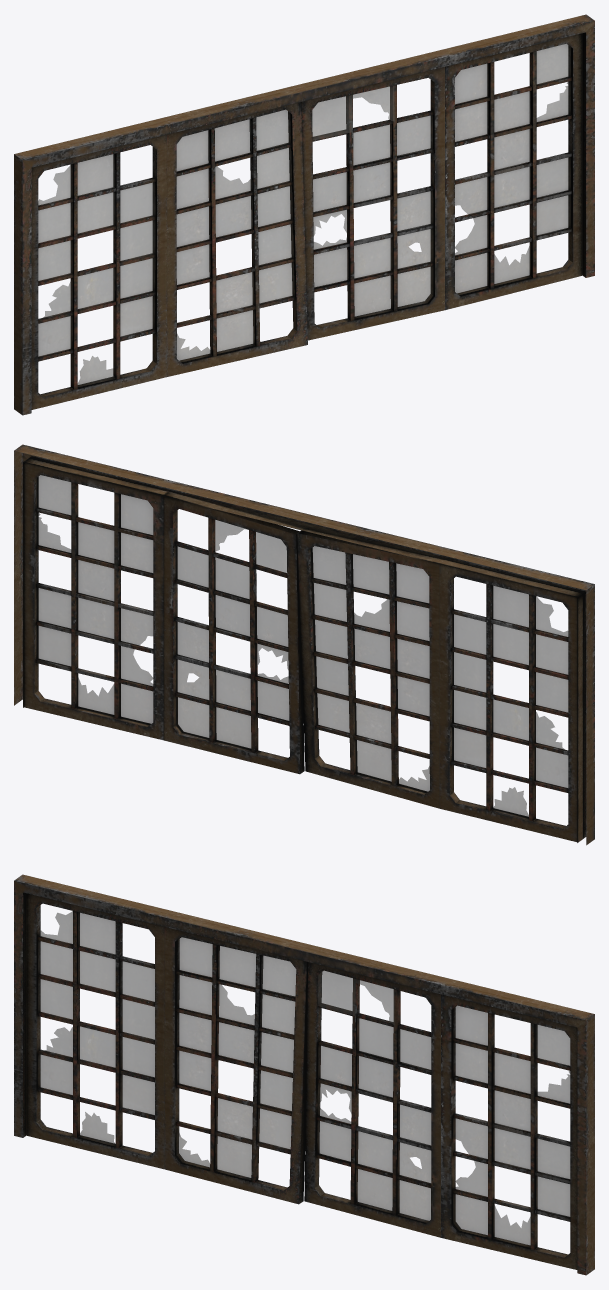
The model's file is BalDoorUnbroken.FBX.
The picture shows the model from 3 angles, top to bottom: view 1: azimuth 30°, elevation 25°; view 2: azimuth 150°, elevation 25°; view 3: azimuth 330°, elevation 25°; orthographic projection.
Visible parts, largest first — view 1: BalDoorUnbroken; view 2: BalDoorUnbroken; view 3: BalDoorUnbroken.
Boxes of the visible parts, <box> form: BalDoorUnbroken: <box>14,14,594,415</box>; BalDoorUnbroken: <box>14,444,594,845</box>; BalDoorUnbroken: <box>14,874,594,1275</box>.
Bounding box in the file's own units: 575 × 245 × 21.26.
